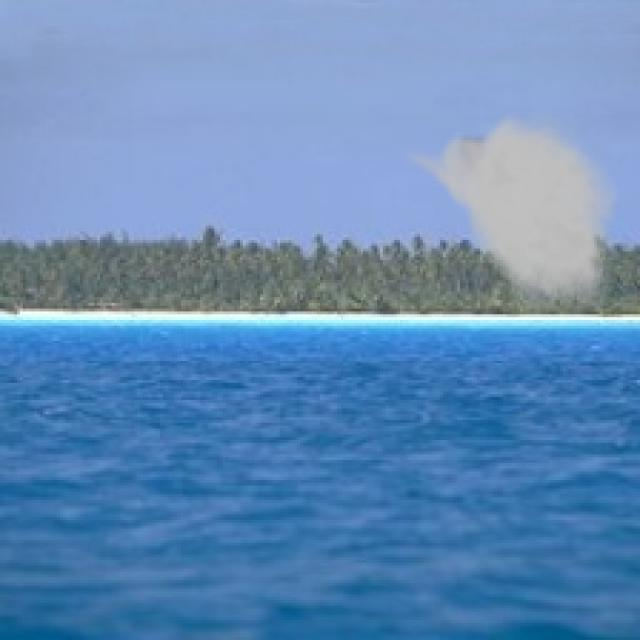Smoke: (397, 109, 620, 318)
